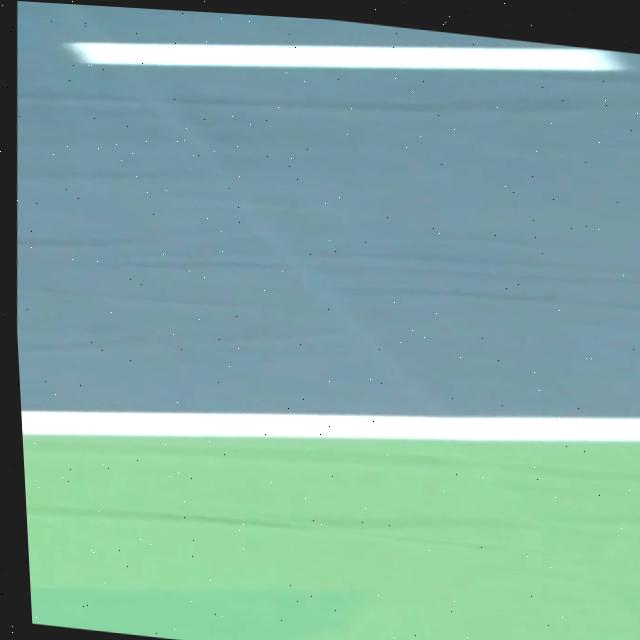center: (65, 41, 625, 71)
right: (21, 411, 640, 440)
